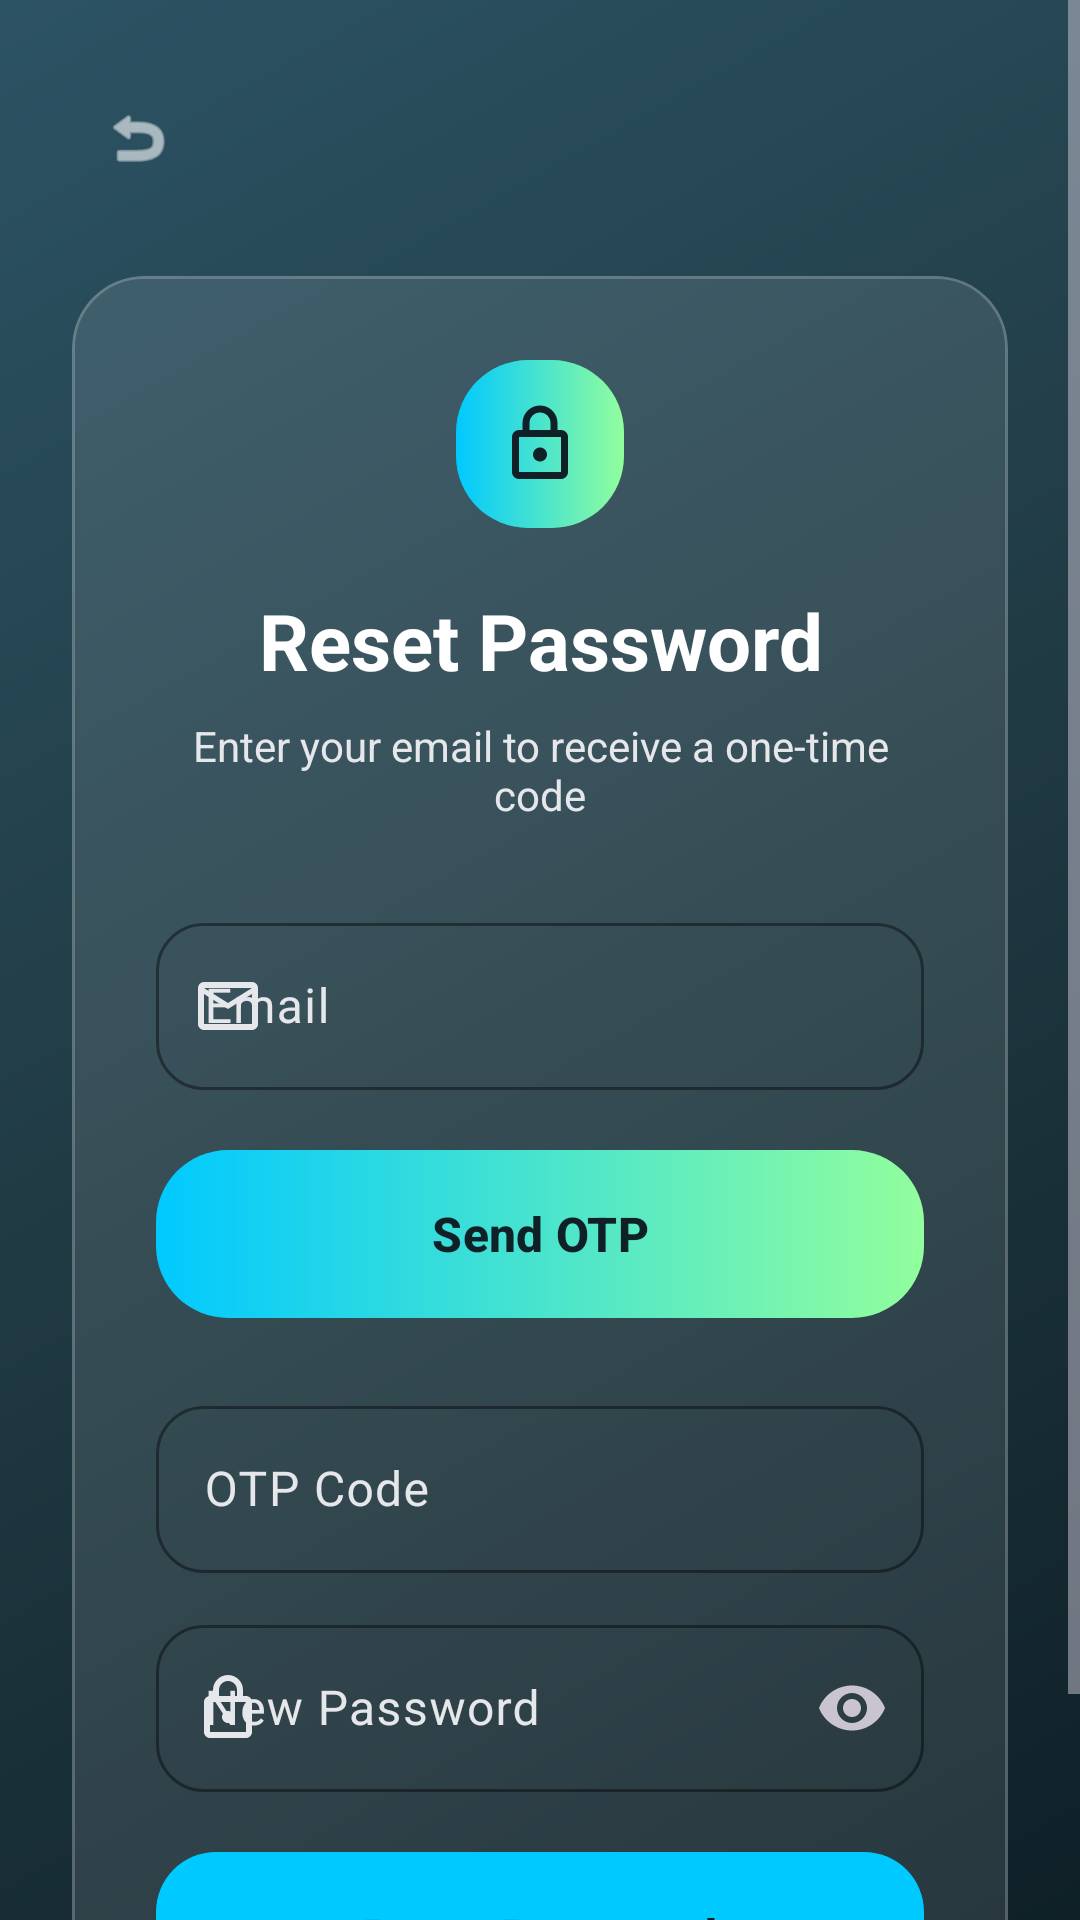

Icon bounding boxes for this 1080x1920 phone screenshot, format (x1, y1, x2, y2):
Back: (113, 115, 165, 162)
lock: (456, 360, 624, 528)
